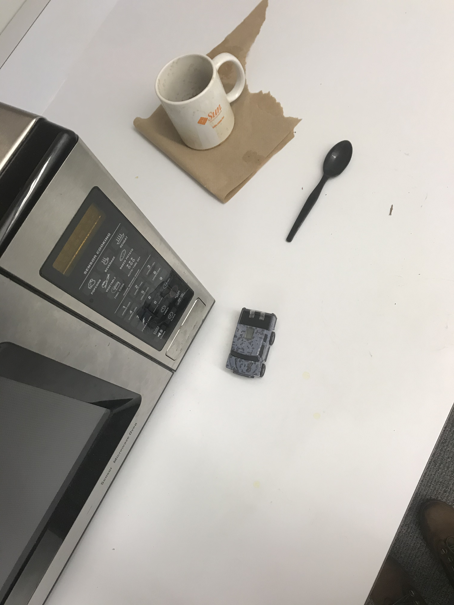MXT: (224, 305, 279, 379)
